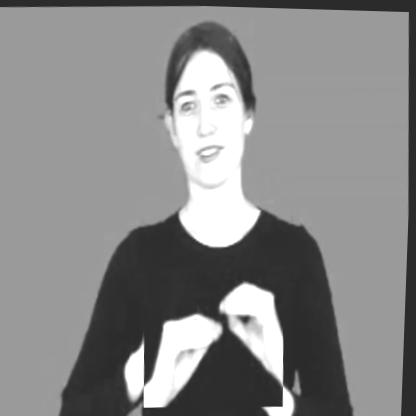Fix: (142, 262, 290, 410)
